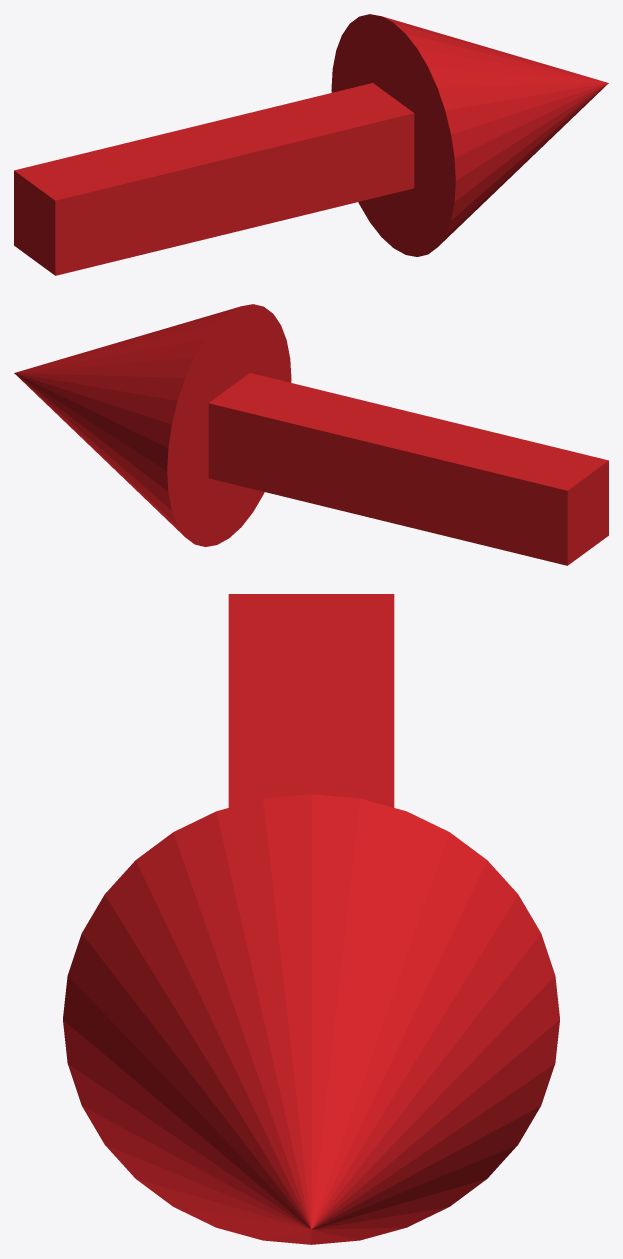
Rendered from marker_red.dae.
3 views of the same model, one above another, from view 1: azimuth 30°, elevation 25°; view 2: azimuth 150°, elevation 25°; view 3: azimuth 270°, elevation 25° (orthographic). The views are drawn at different scales.
Visible parts, largest first — view 1: Cube; view 2: Cube; view 3: Cube.
Part boxes in pixels (x1,y1,x2,y2): Cube: (14, 14, 608, 275); Cube: (14, 304, 608, 565); Cube: (63, 594, 559, 1244).
Size of the model in its own units: 0.16 by 0.06 by 0.06.
